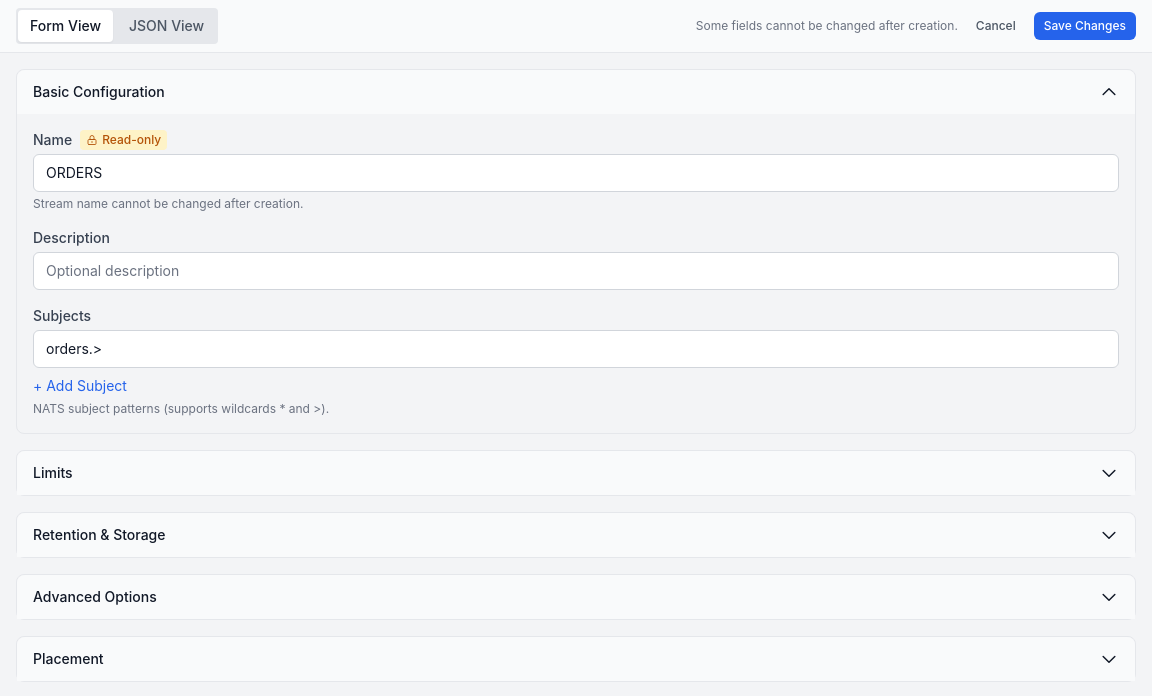
StreamConfigEditor › blocks saving, and says why, while a duration cannot be read
Expected: the button "Save Changes" is enabled, [1034,12,1136,40]
Click the button "Limits": (53, 472) [17,451,1135,495]
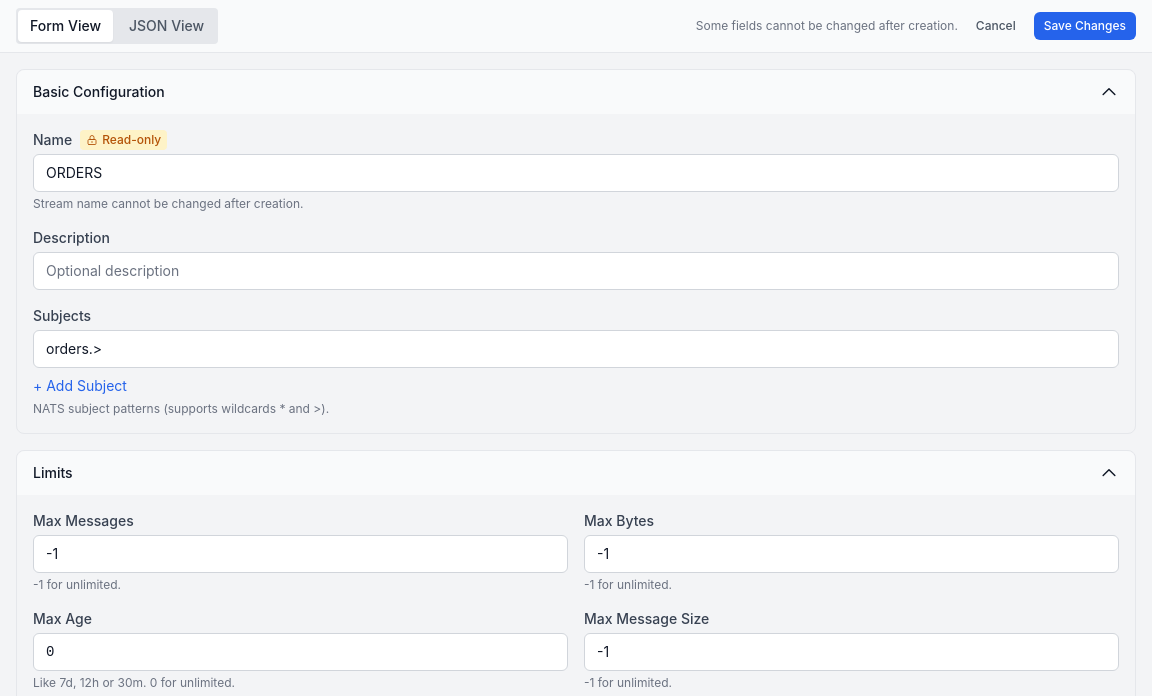
Replace the text in the field labelled "Max Age" with "soon": (300, 652) [33,633,568,671]
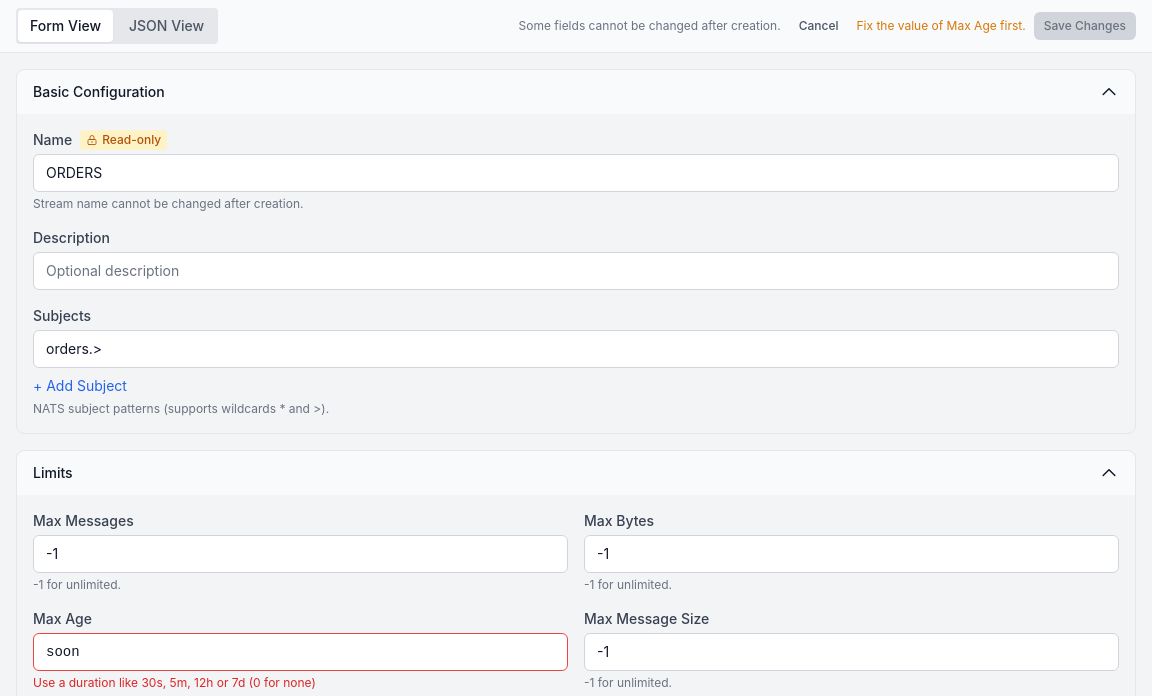
Result: the button "Save Changes" is disabled at [1034,12,1136,40]
Result: the text with test id "save-blocked-reason" shows "Max Age" at [947,18,997,33]
